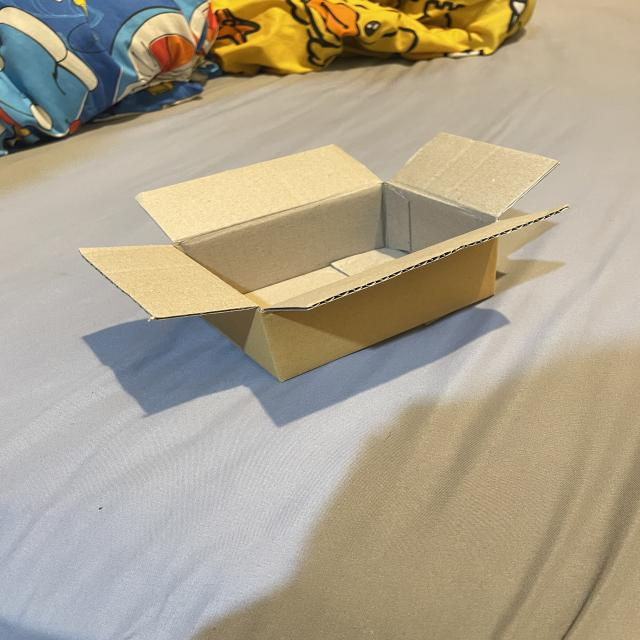box: (77, 132, 570, 381)
opened: (79, 134, 571, 321)
